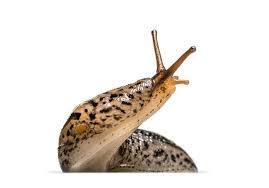slug: (58, 34, 205, 175)
